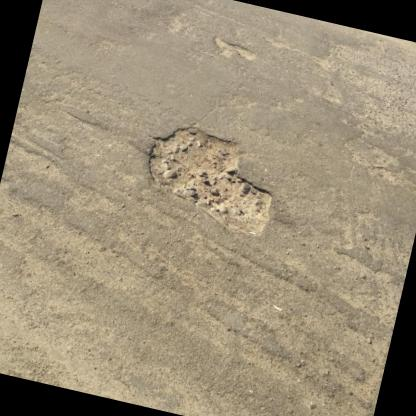pothole: (136, 112, 292, 240), (208, 35, 260, 63)
